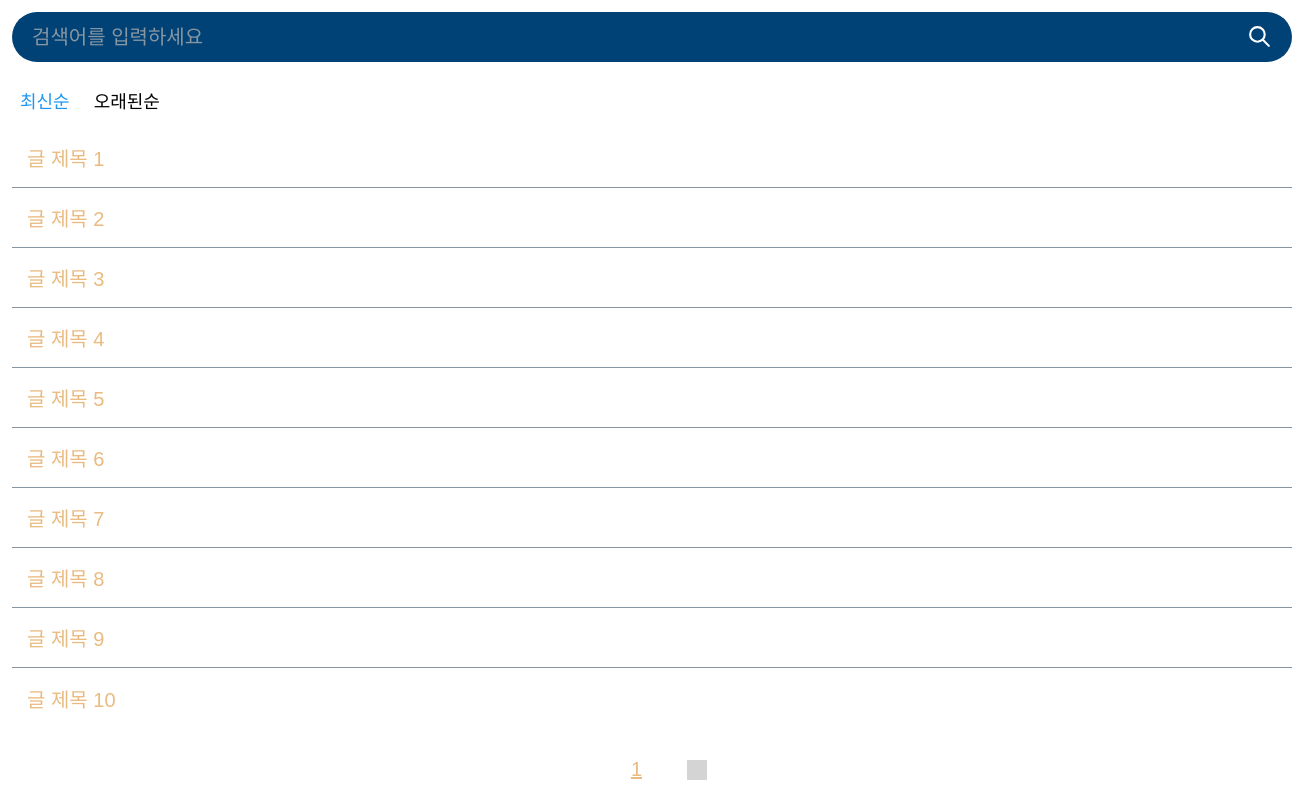
it: Home 페이지 통합 테스트 › 오래된순 버튼 클릭 시 정렬 변경
Click the button "오래된순" at (127, 100), box [86, 82, 168, 118]
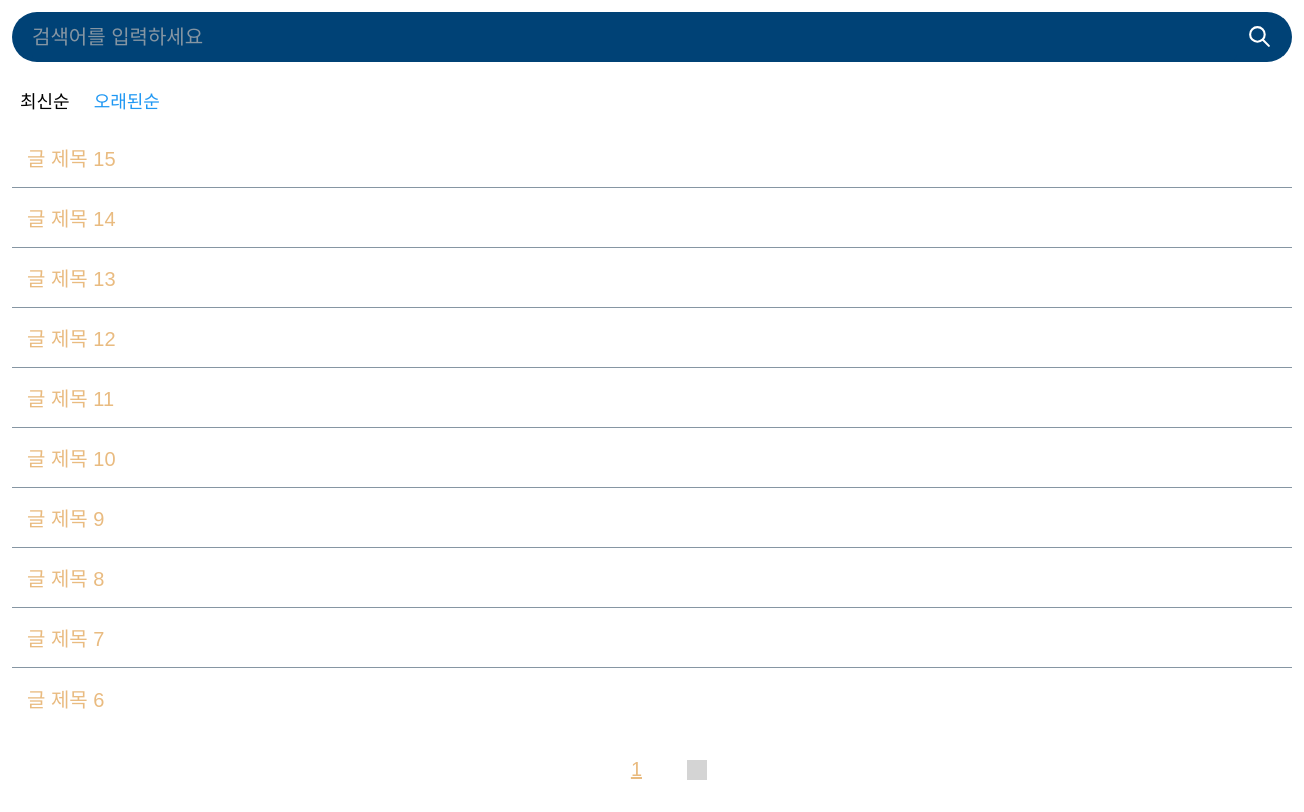
expect the element showing "글 제목 15" is shown: met, box [12, 128, 1292, 188]
